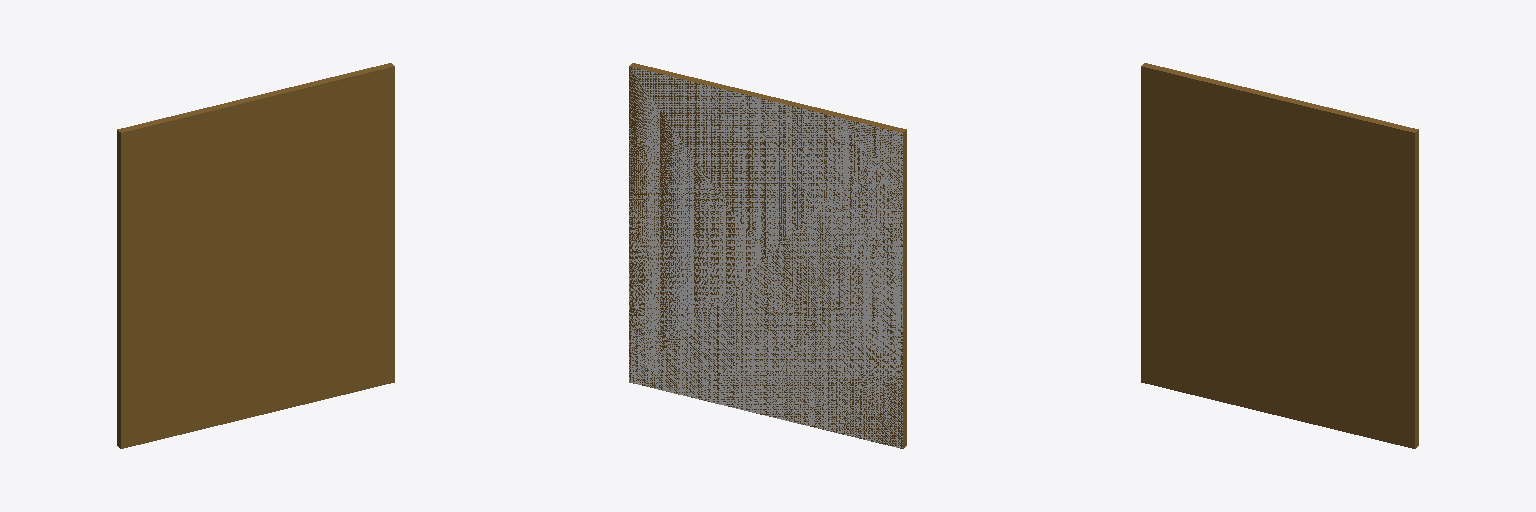
File: Painting-005.obj
3 renders of one model, left to right at view 1: azimuth 30°, elevation 25°; view 2: azimuth 150°, elevation 25°; view 3: azimuth 330°, elevation 25°, orthographic.
Visible parts, largest first — view 1: Mesh1 Group1 Model; view 2: Mesh1 Group1 Model; view 3: Mesh1 Group1 Model.
Boxes of the visible parts, <box> form: Mesh1 Group1 Model: <box>117,63,394,448</box>; Mesh1 Group1 Model: <box>629,63,906,448</box>; Mesh1 Group1 Model: <box>1141,63,1418,448</box>.
Bounding box in the file's own units: 1.38 × 1.52 × 0.04.